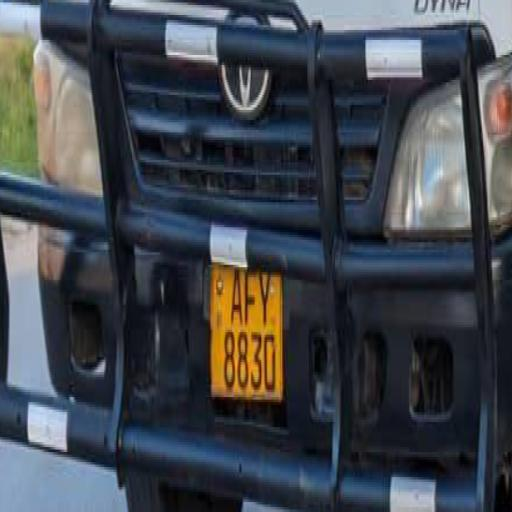number-plates: (212, 259, 278, 402)
